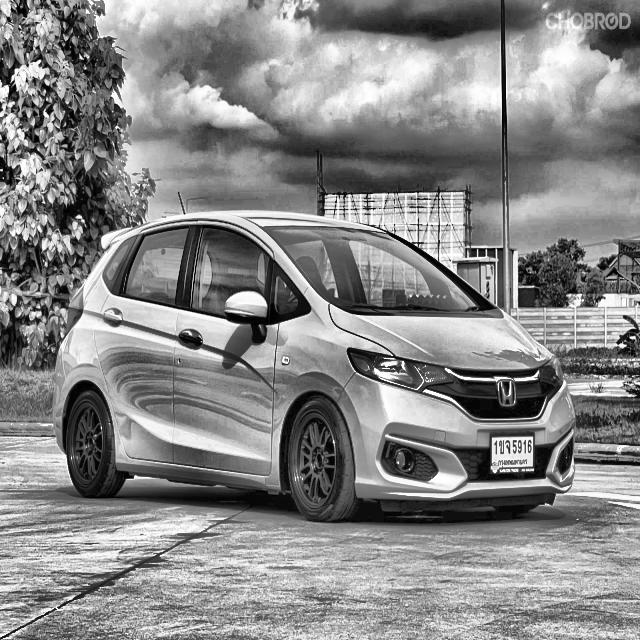license-plate: (489, 428, 536, 478)
